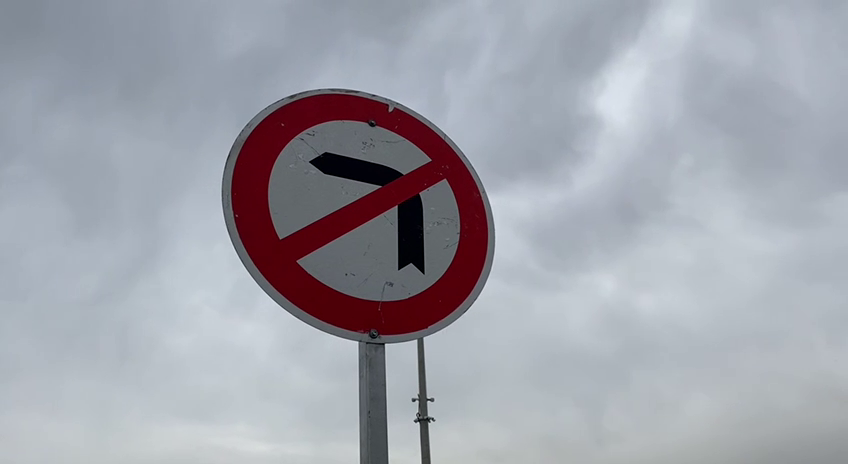noTurnLeft: (220, 85, 499, 345)
